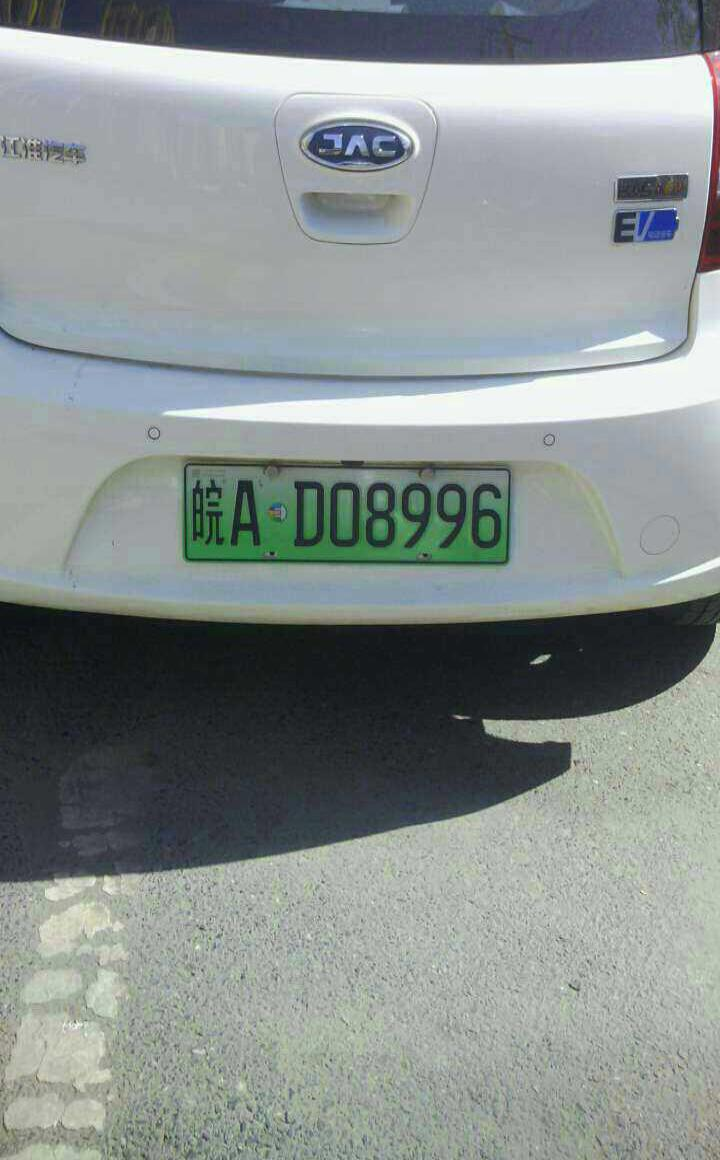car_id: (183, 461, 508, 560)
